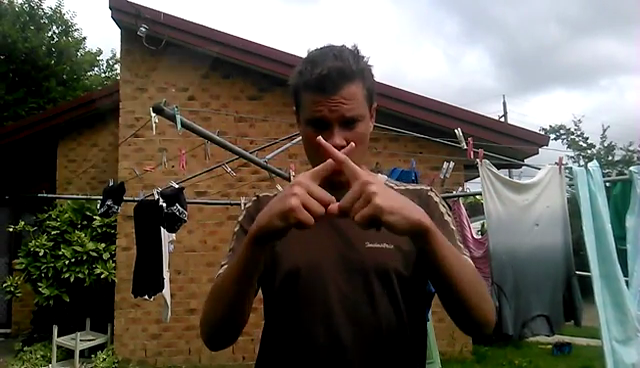X: (257, 133, 423, 249)
